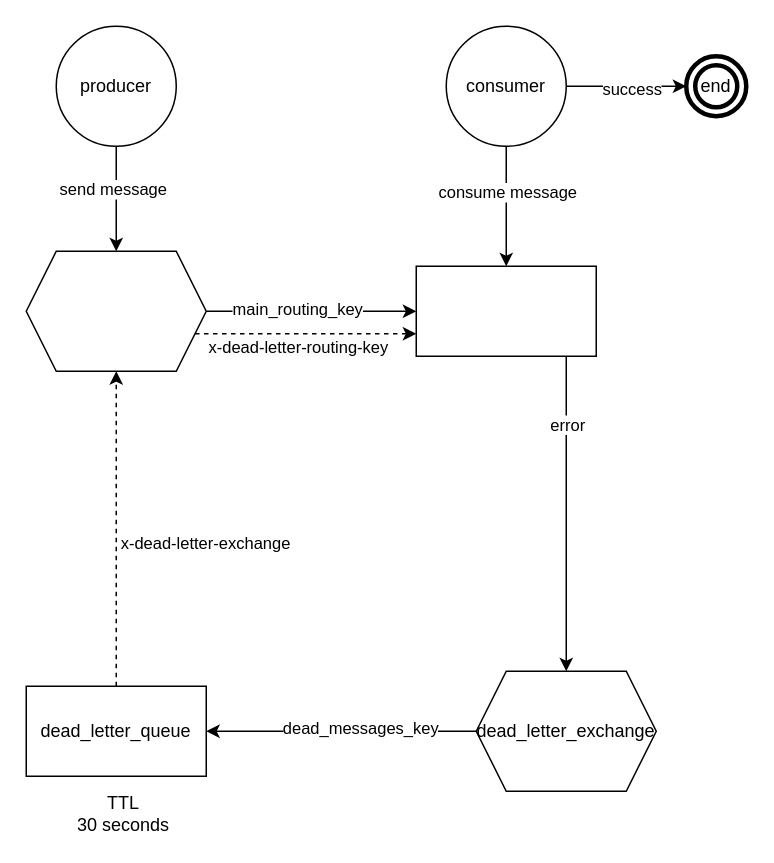
Some shapes in this 774 by 863 pixel diagram are drawn without their labels. Here are the shapes that lost their labels. From the top down, the centre of each, then its label:
(115,310): main _exchange
(505,310): main_queue
